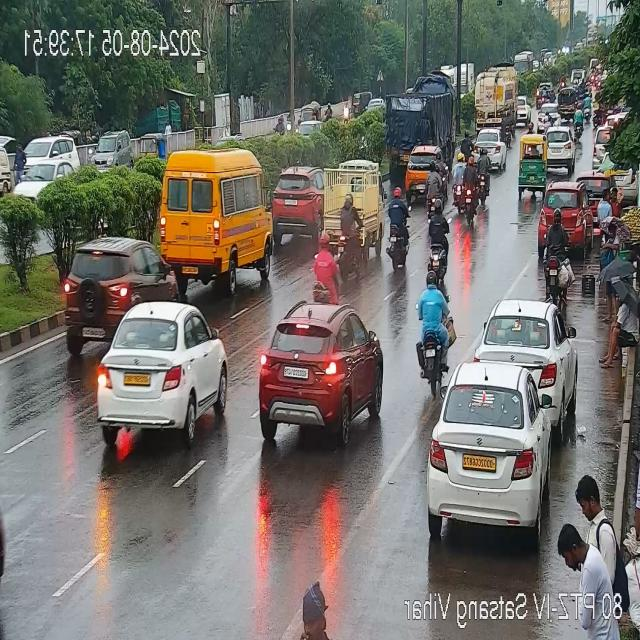2-wheelers: (418, 268, 449, 388), (452, 147, 488, 225), (386, 190, 413, 272), (542, 210, 572, 280), (310, 230, 338, 300), (338, 188, 362, 266), (427, 192, 453, 260), (423, 166, 443, 212), (476, 149, 492, 200), (572, 106, 584, 136), (543, 84, 557, 105), (574, 84, 586, 105), (584, 95, 592, 123), (543, 108, 553, 130), (542, 86, 555, 102)
auto: (534, 182, 594, 248), (518, 154, 550, 194), (520, 134, 544, 160), (558, 88, 574, 114)
bus: (154, 136, 272, 282)
car: (426, 361, 556, 537), (96, 302, 229, 450), (260, 299, 394, 442), (62, 236, 176, 348), (480, 296, 571, 401), (16, 128, 77, 190), (270, 170, 320, 240), (472, 126, 507, 170), (95, 126, 128, 165), (544, 128, 576, 168), (578, 164, 602, 210), (406, 142, 428, 192), (515, 95, 533, 129), (538, 104, 560, 130), (518, 92, 532, 120), (534, 81, 542, 105)
pedestrian: (294, 570, 350, 640), (556, 522, 612, 582), (573, 471, 612, 549), (605, 294, 640, 360), (603, 225, 617, 324), (592, 190, 616, 240)
truck: (391, 69, 456, 167), (322, 158, 389, 242), (476, 64, 516, 120)
